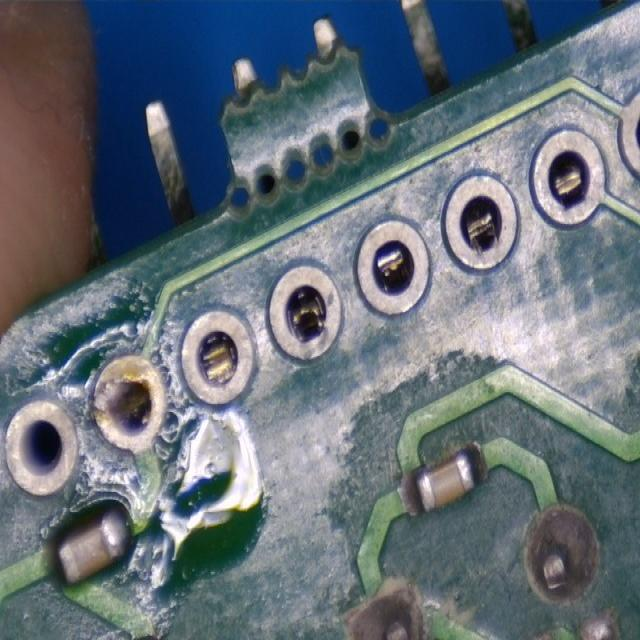Dry_joint: (94, 354, 163, 448)
